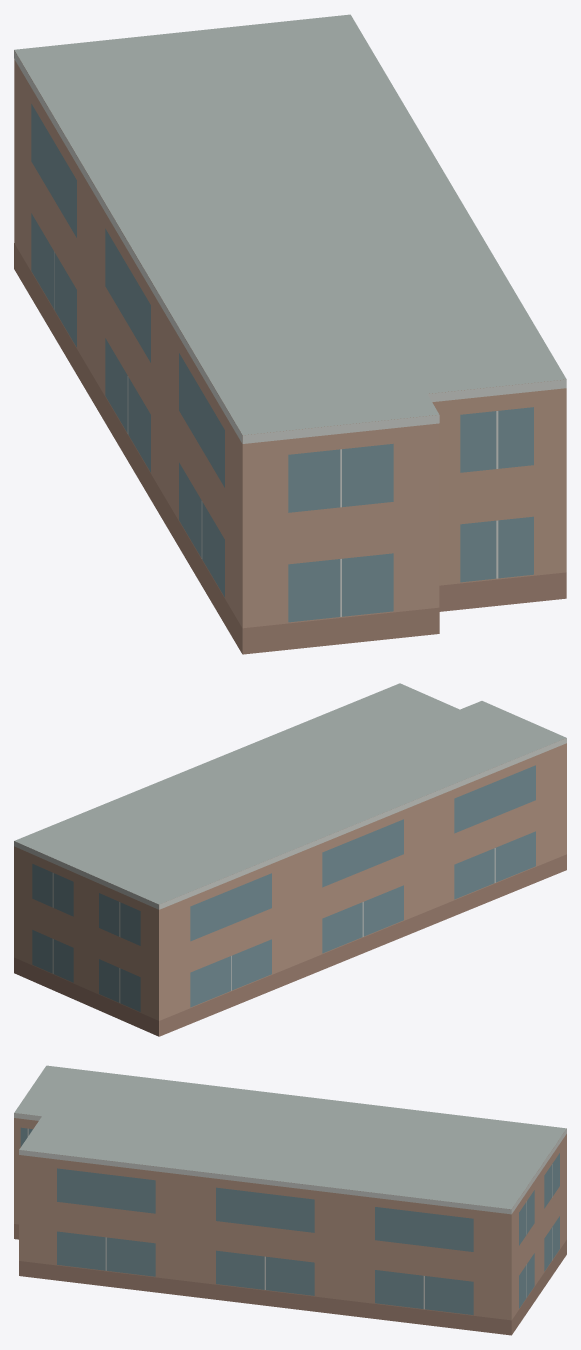
File: survey-upis-32987198.glb
3 renders of one model, top to bottom at view 1: azimuth 30°, elevation 25°; view 2: azimuth 150°, elevation 25°; view 3: azimuth 270°, elevation 25°, orthographic. The views are drawn at different scales.
Parts seen in each view (by area): view 1: survey-upis-32987198.tmp; view 2: survey-upis-32987198.tmp; view 3: survey-upis-32987198.tmp.
Part boxes in pixels (x1,y1,x2,y2): survey-upis-32987198.tmp: (14, 14, 566, 654); survey-upis-32987198.tmp: (14, 683, 566, 1036); survey-upis-32987198.tmp: (14, 1065, 566, 1335).
Bounding box in the file's own units: 14.93 × 6.1 × 24.25.
